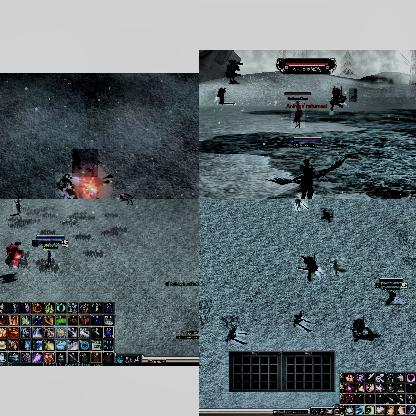caliana: (72, 149, 98, 177), (54, 173, 79, 199), (225, 325, 251, 343), (292, 310, 312, 332), (291, 102, 305, 128), (331, 258, 347, 276), (292, 199, 308, 211), (321, 208, 333, 222), (349, 88, 357, 102), (13, 199, 20, 213), (121, 199, 133, 205)
